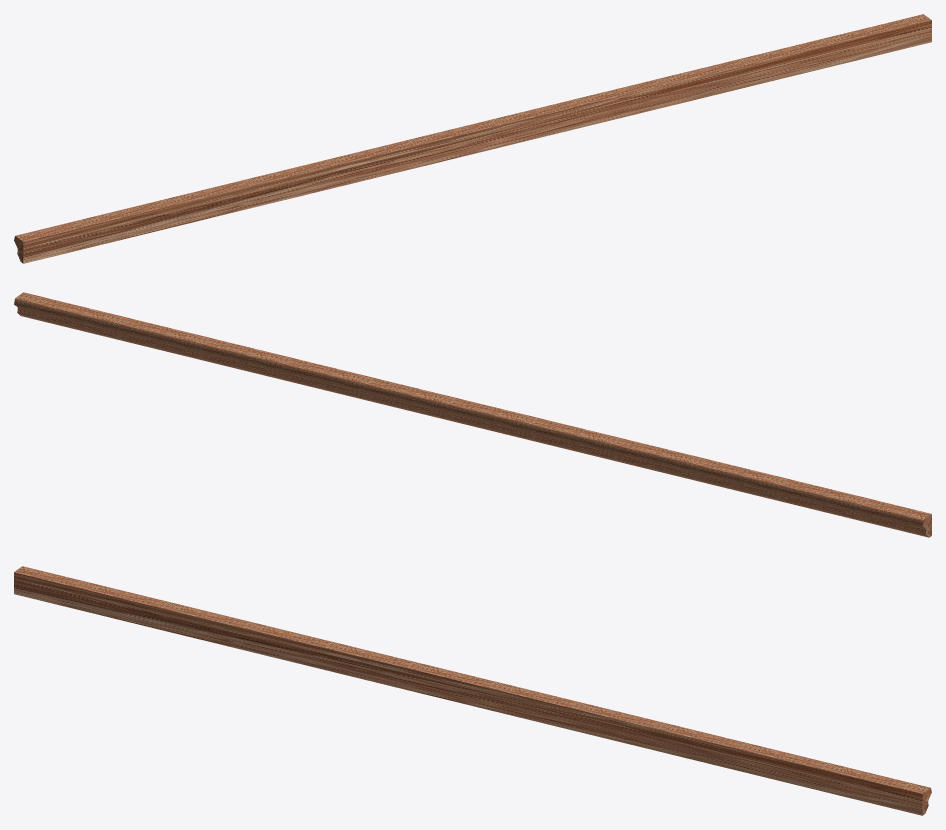
The model's file is env_model_rock_cliff_hands_001.fbx.
The picture shows the model from 3 angles, top to bottom: view 1: azimuth 30°, elevation 25°; view 2: azimuth 150°, elevation 25°; view 3: azimuth 330°, elevation 25°; orthographic projection.
Visible parts, largest first — view 1: pCube13; view 2: pCube13; view 3: pCube13.
Part boxes in pixels (left/top/right/bottom): pCube13: left=14, top=14, right=931, bottom=263; pCube13: left=14, top=292, right=931, bottom=537; pCube13: left=14, top=566, right=931, bottom=815.
Bounding box in the file's own units: 350 × 8.06 × 6.26.
